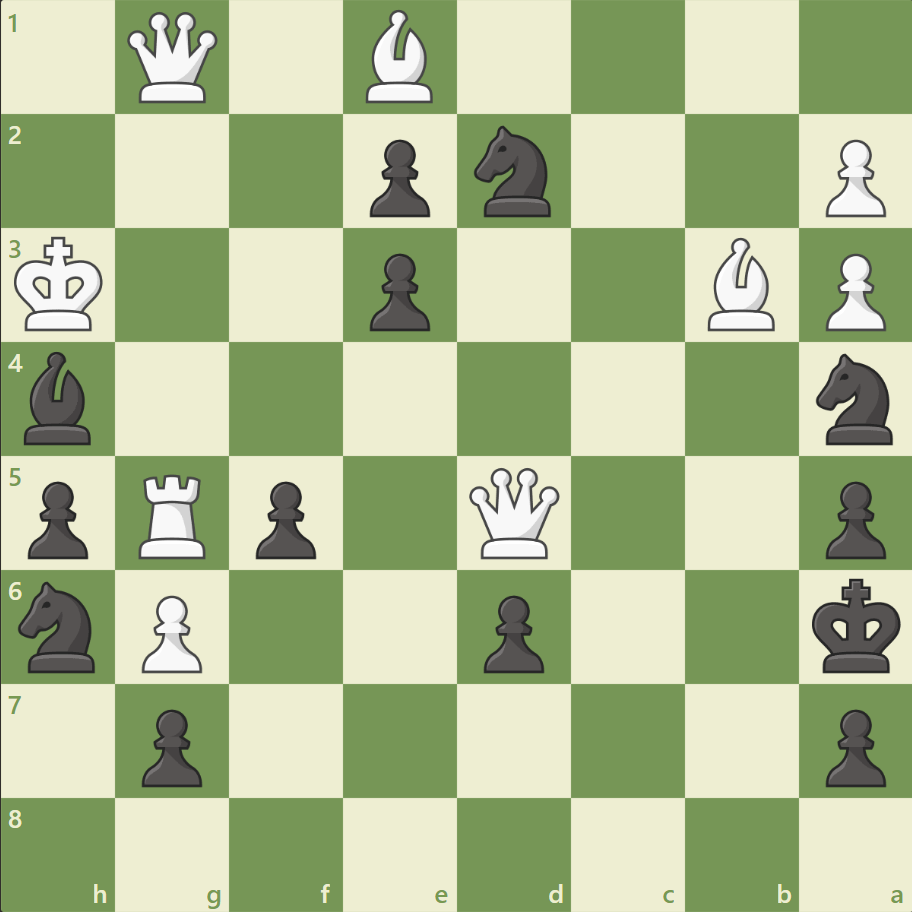B: (698, 233, 782, 336), (358, 6, 442, 109)
K: (11, 231, 111, 339)
P: (133, 586, 208, 677), (815, 246, 889, 337), (815, 132, 889, 223)
Q: (464, 463, 563, 562), (124, 9, 223, 108)
R: (133, 466, 215, 563)
b: (17, 347, 101, 449)
k: (806, 571, 906, 679)
n: (11, 575, 108, 677), (806, 348, 903, 450), (465, 121, 562, 223)
p: (133, 700, 208, 791), (474, 586, 549, 677), (247, 473, 322, 564), (20, 473, 95, 564), (815, 700, 889, 791), (815, 473, 889, 564), (361, 246, 435, 337), (361, 132, 435, 223)
